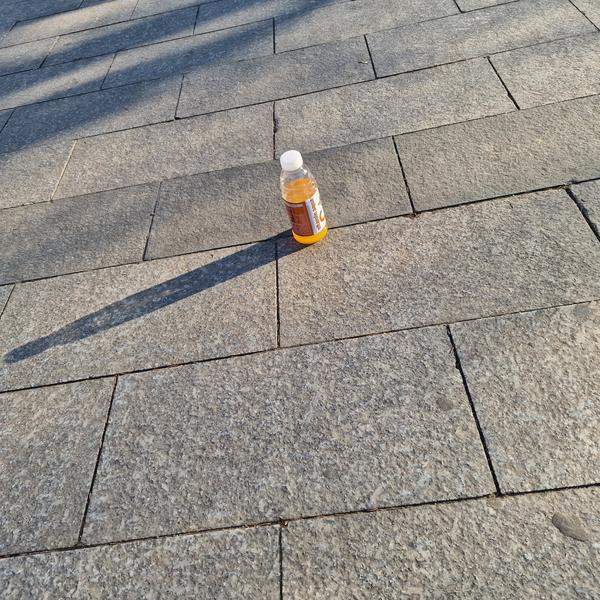plastic_bottle: (268, 145, 334, 249)
